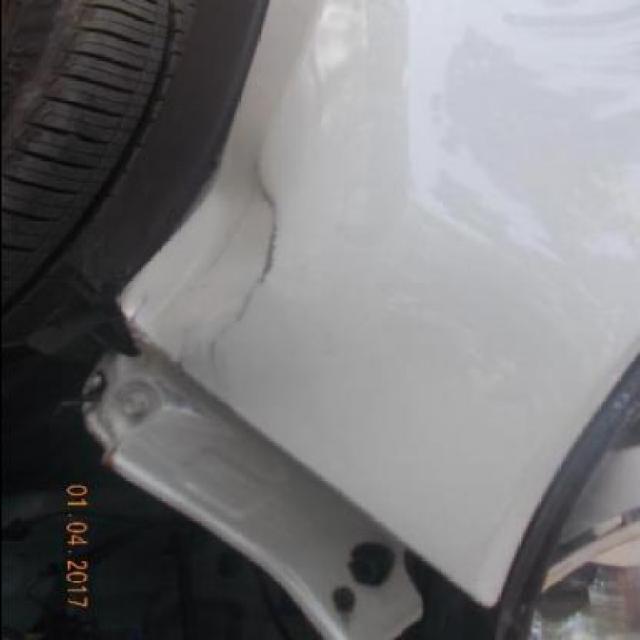damage: (116, 137, 281, 408), (227, 161, 279, 326)
